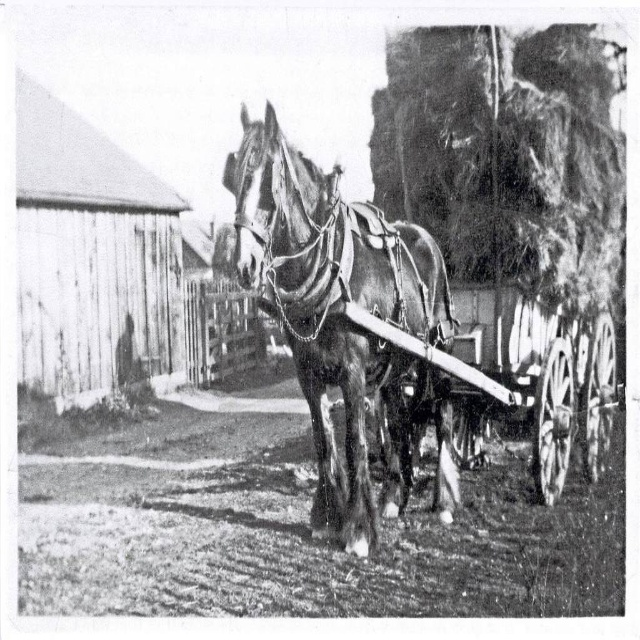Horse: (222, 98, 459, 560)
